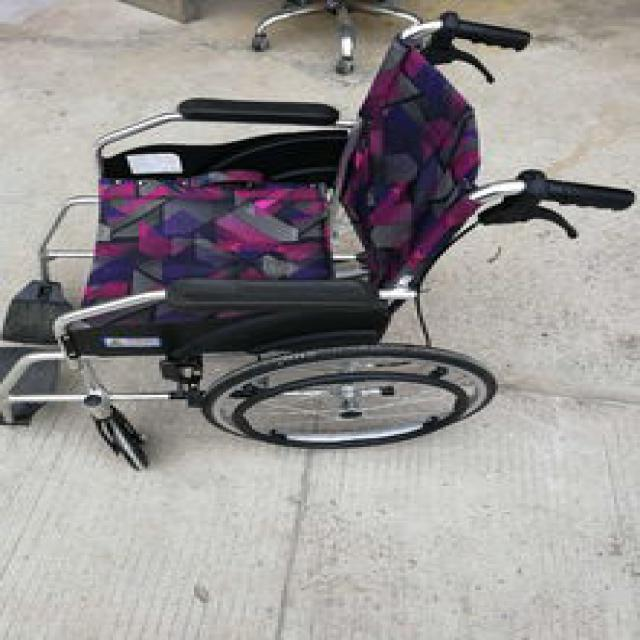wheelchairs: (2, 14, 640, 472)
